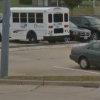Car: (67, 38, 100, 75)
